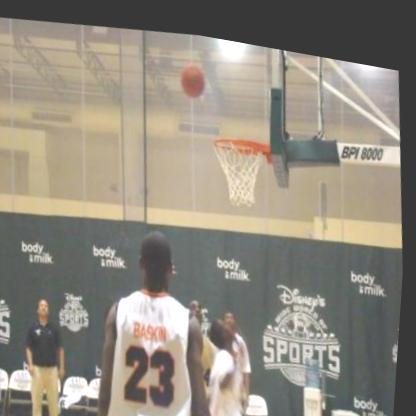basketball: (180, 56, 209, 94)
